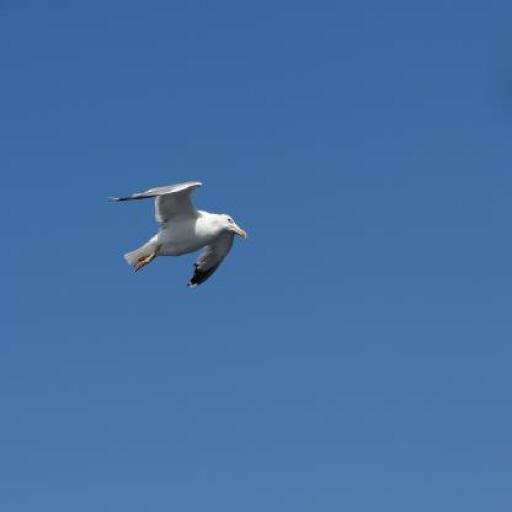bird: (109, 179, 246, 287)
